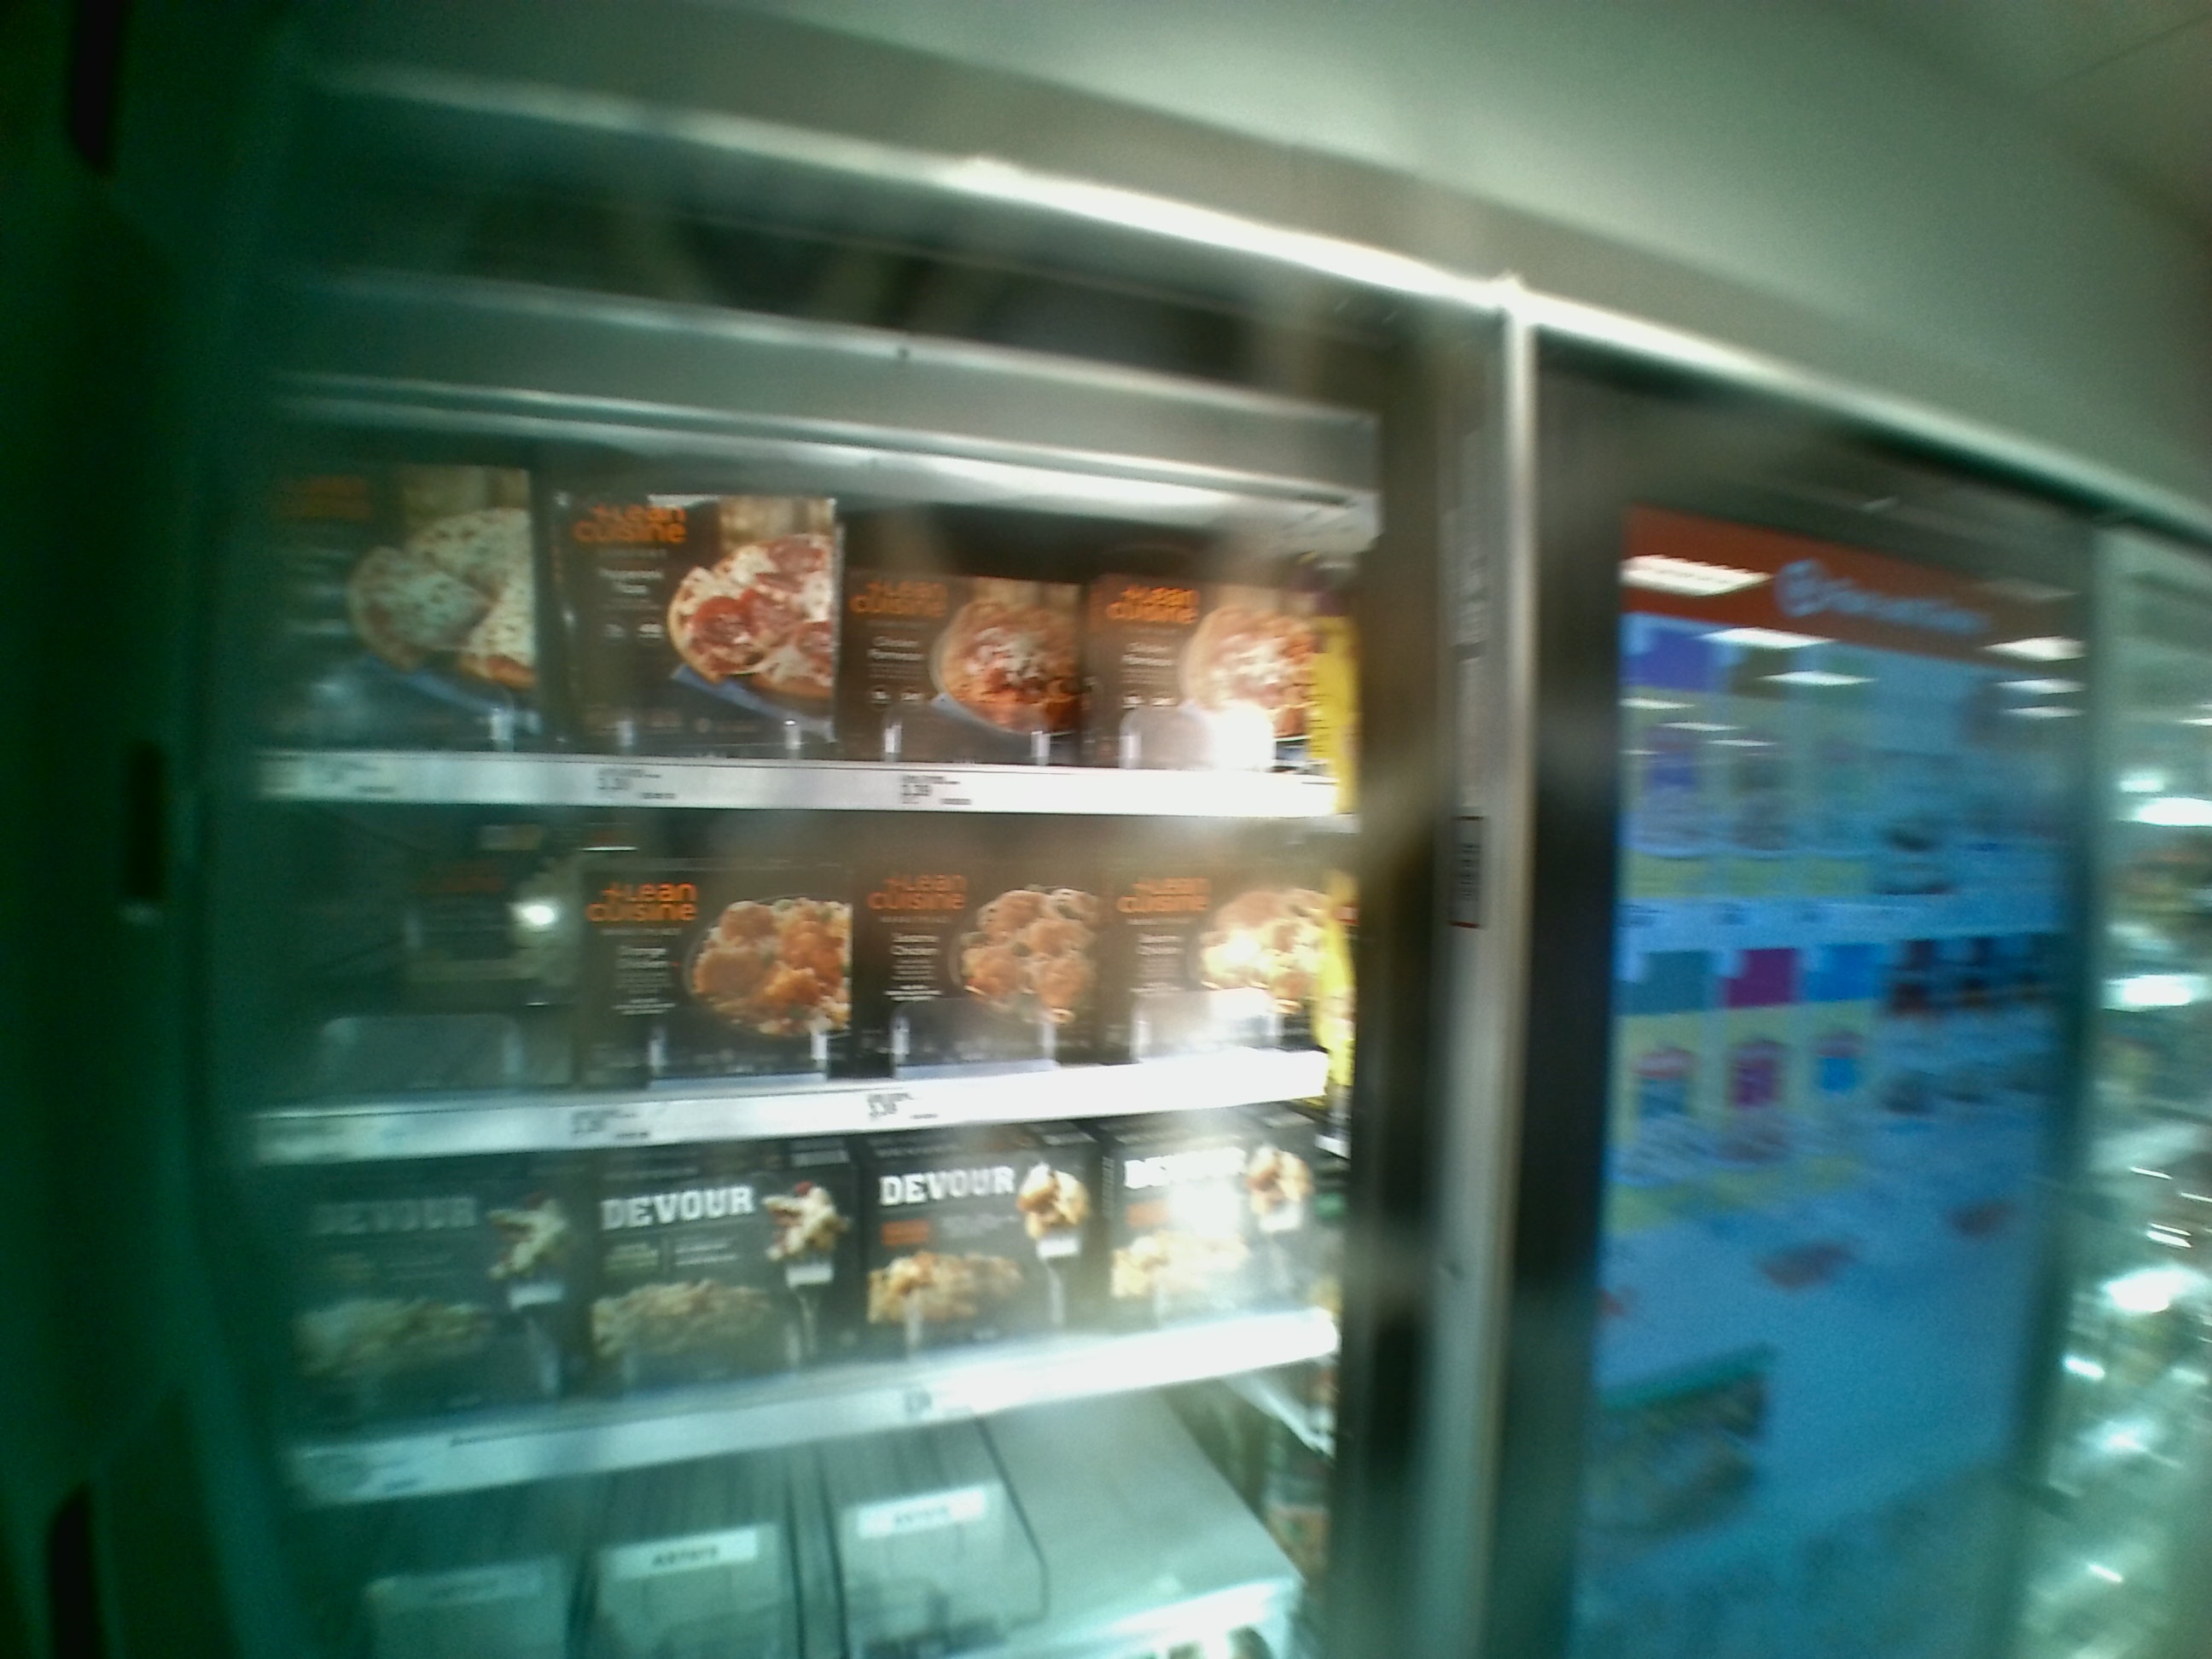Shelf: (249, 390, 1350, 817), (239, 803, 1362, 1154)
